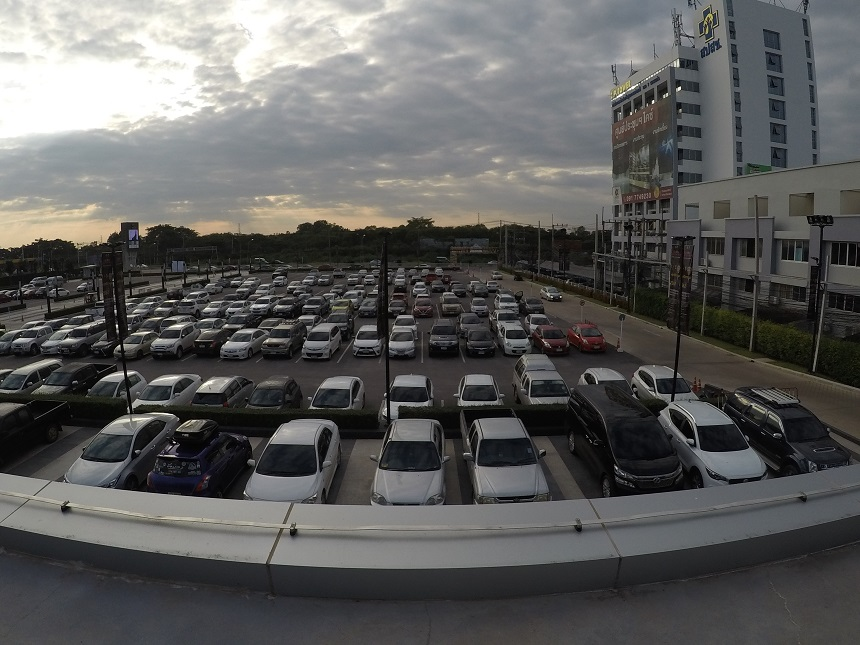busy: (246, 443, 336, 491), (468, 452, 548, 497), (604, 440, 682, 484), (161, 443, 235, 486), (372, 455, 445, 498), (687, 443, 766, 481), (781, 426, 844, 463), (85, 438, 144, 477), (319, 377, 365, 407), (388, 376, 437, 404), (5, 405, 48, 436), (453, 381, 506, 405), (519, 374, 569, 399), (640, 368, 688, 393), (256, 380, 304, 405), (199, 378, 245, 403), (147, 374, 193, 399), (52, 373, 89, 396), (301, 339, 338, 359), (223, 341, 261, 360), (101, 374, 139, 393), (153, 334, 185, 356), (427, 338, 463, 356), (266, 336, 296, 357), (587, 372, 626, 388), (503, 336, 534, 355), (350, 337, 381, 356), (578, 334, 609, 352), (390, 338, 418, 357), (539, 334, 568, 352), (467, 338, 496, 356), (7, 373, 36, 390), (192, 335, 219, 353), (118, 340, 144, 357), (59, 341, 88, 356), (92, 340, 116, 356), (12, 338, 36, 352), (41, 341, 56, 355), (1, 334, 10, 351)
